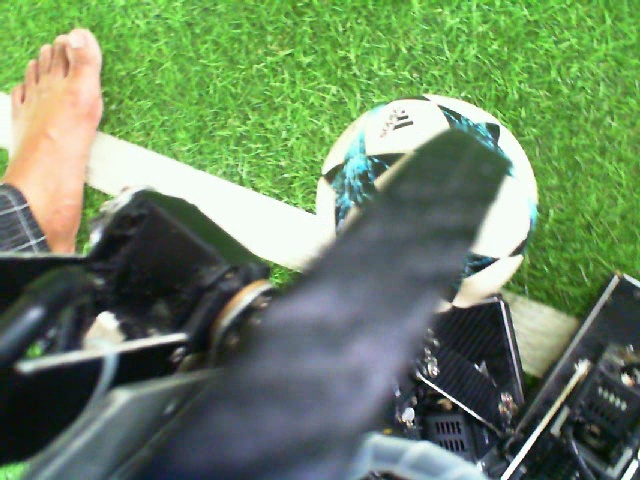ball: (313, 91, 462, 259)
